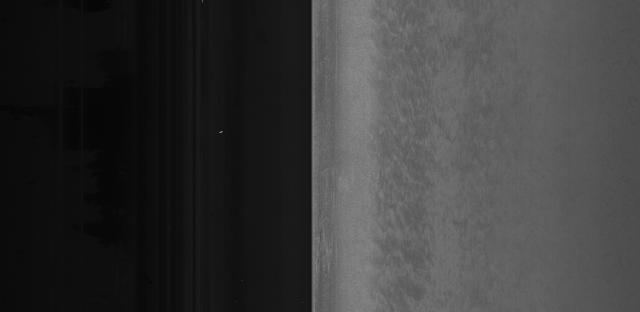silk_spot: (362, 125, 480, 204)
